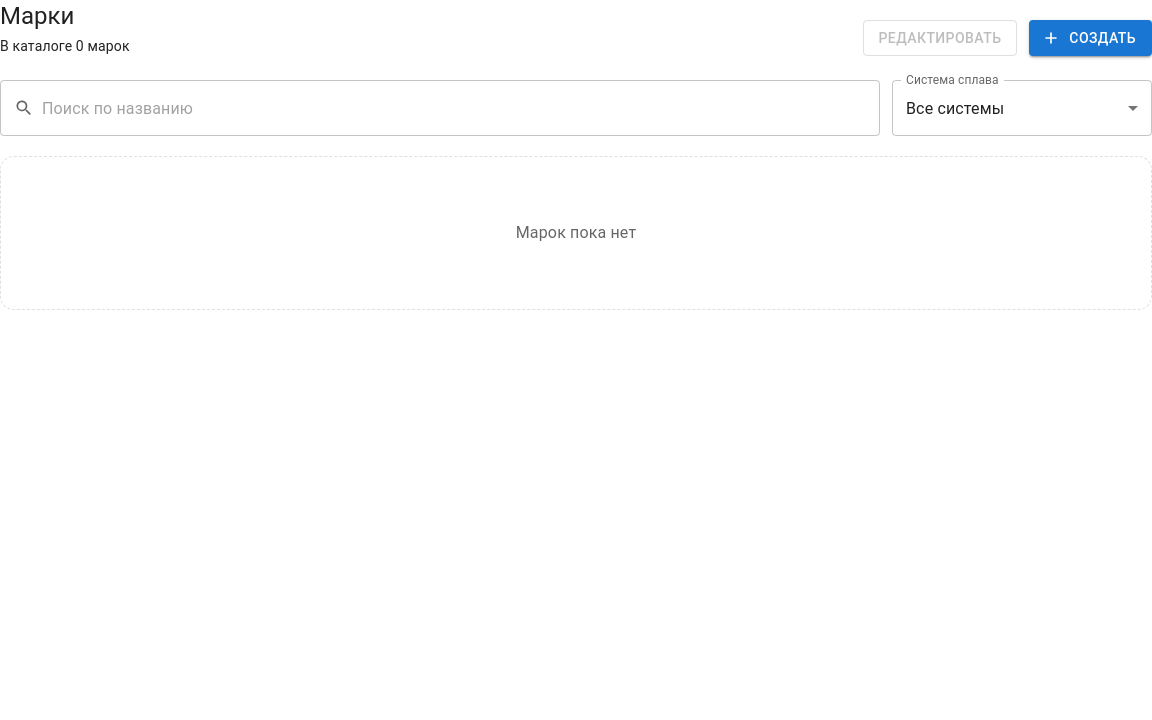
Scenario: CreateGradeDialog › shows the server error text and keeps the dialog open
This screenshot has width=1152, height=720.
Click the button "Создать" at (1091, 38), box [1029,20,1151,56]
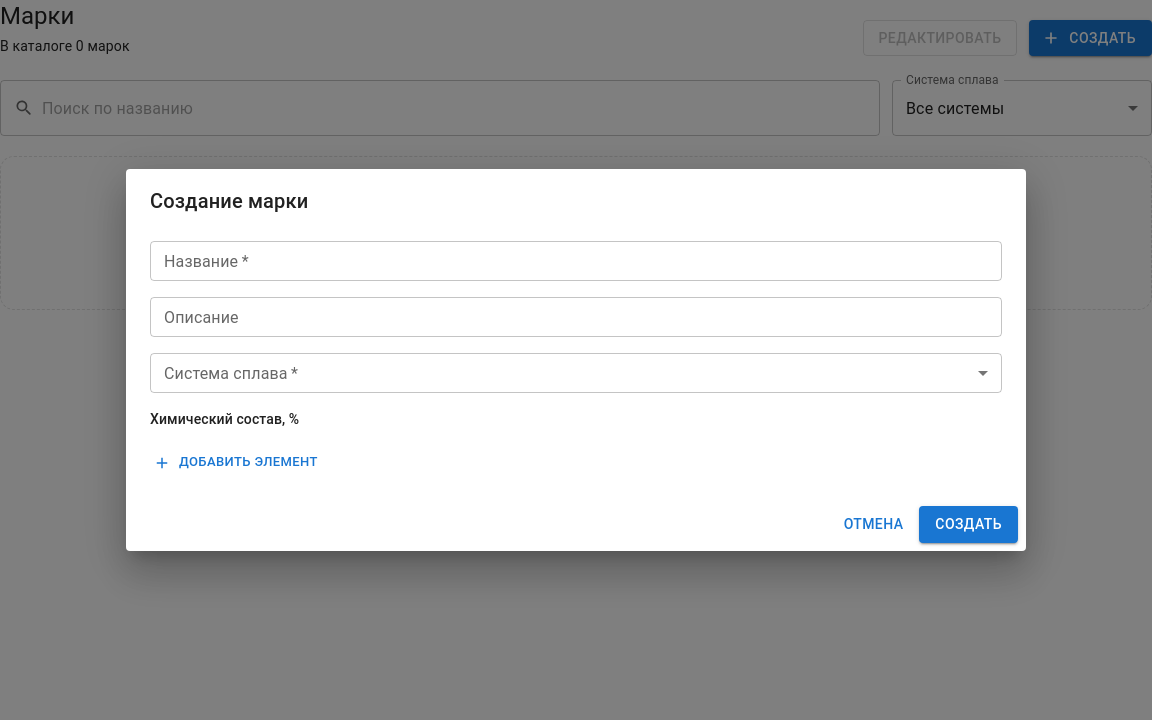
Type "Сталь 20" into the field labelled "Название *" at (576, 261), box [150,241,1002,281]
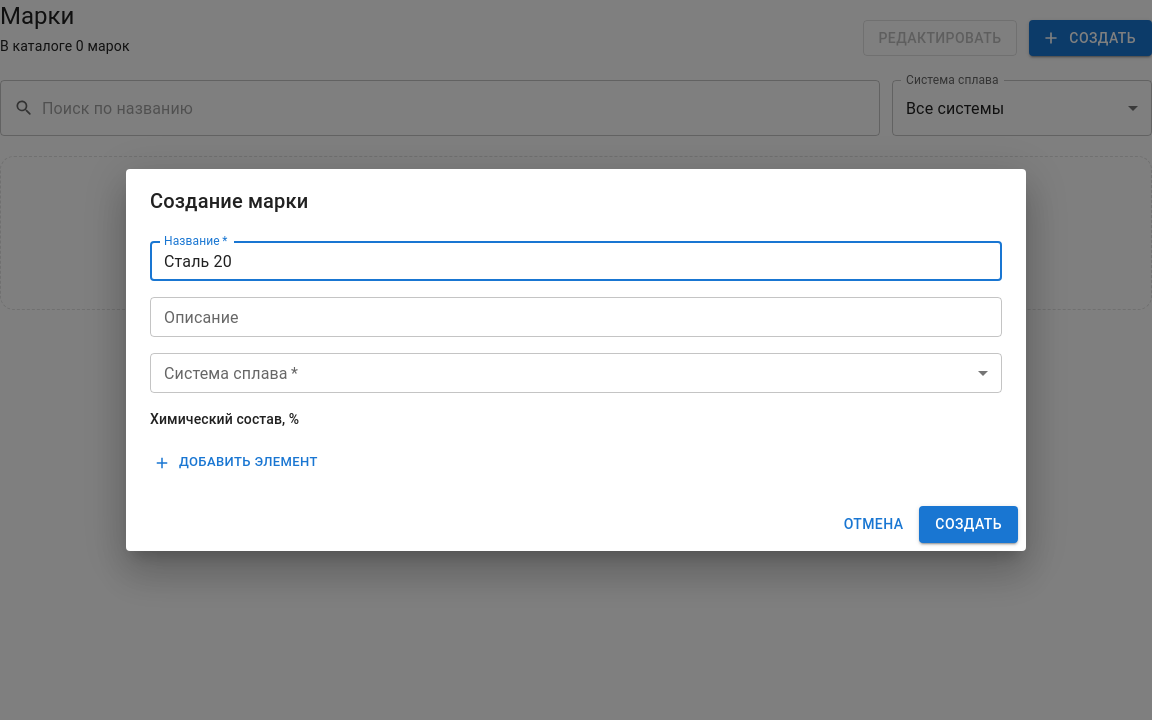
Click the dropdown named "Система сплава" at (576, 373), box [150,353,1002,393]
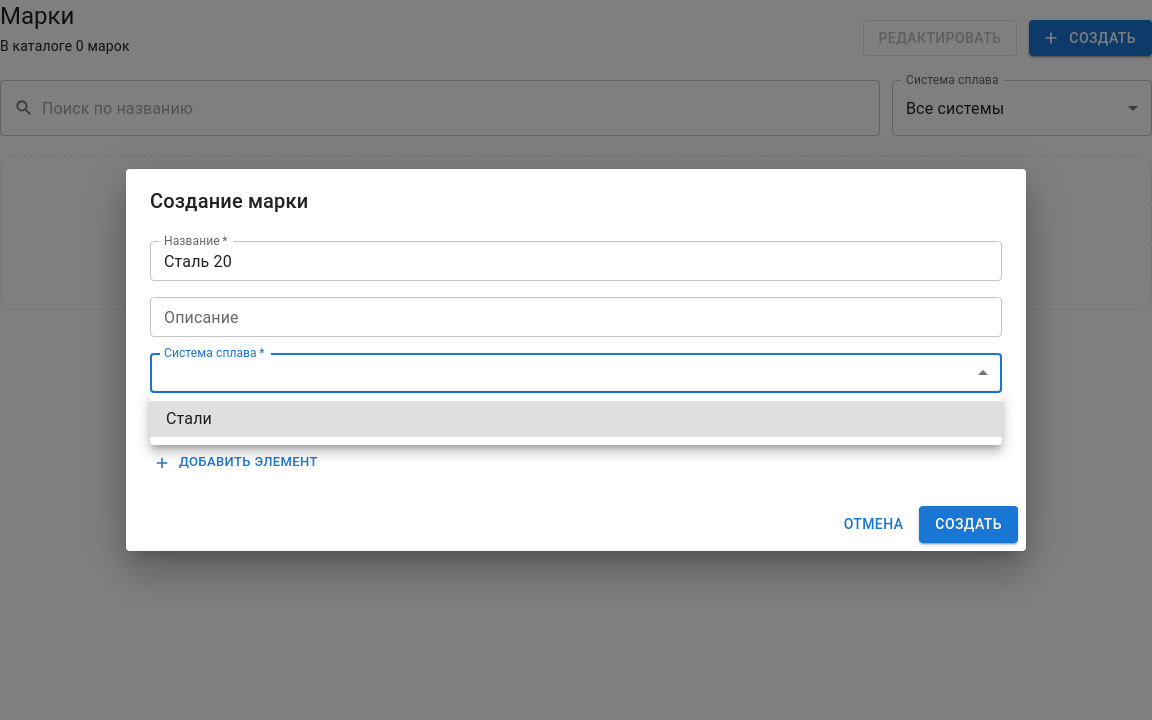
Click the option "Стали" at (189, 418), box [150,401,1002,437]
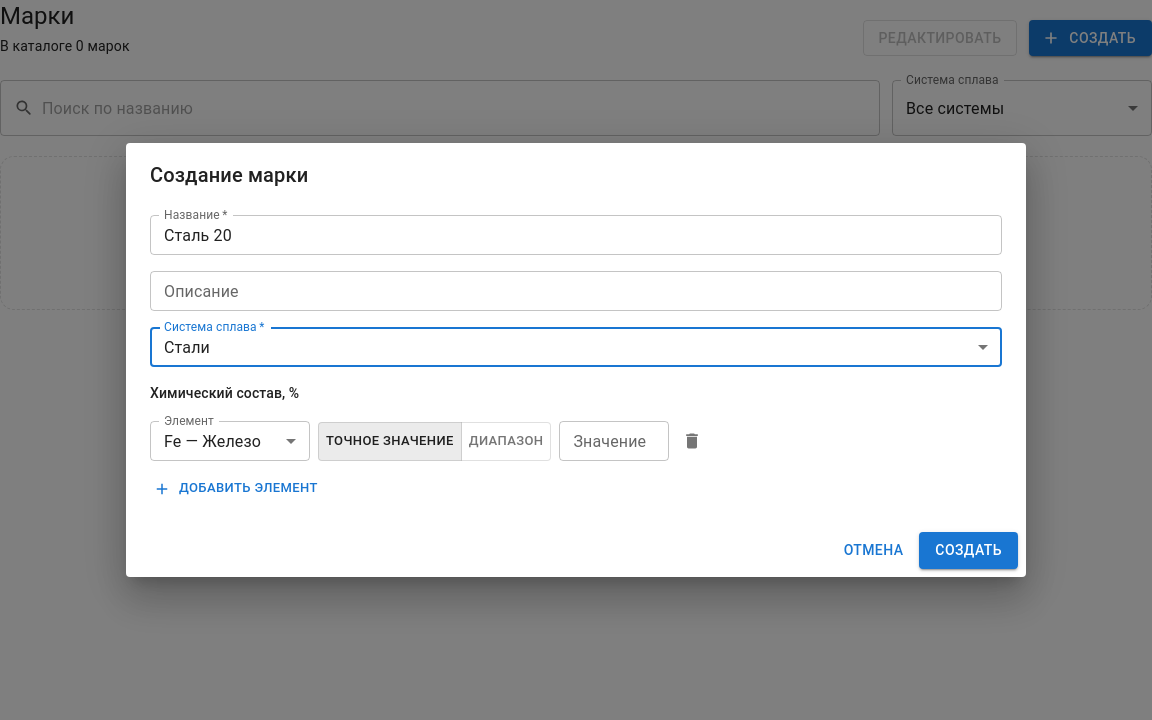
Type "100" into the field labelled "Значение" at (614, 441), box [560,421,670,461]
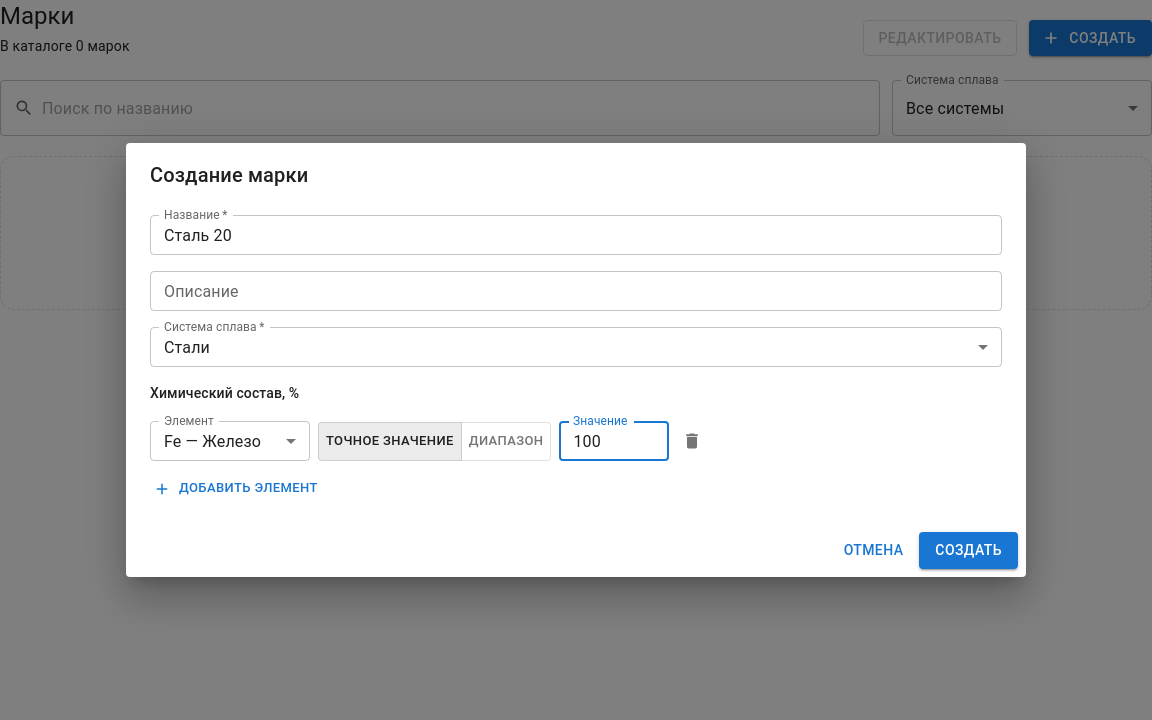
Click the button "Создать" at (969, 550), box [919,532,1018,569]
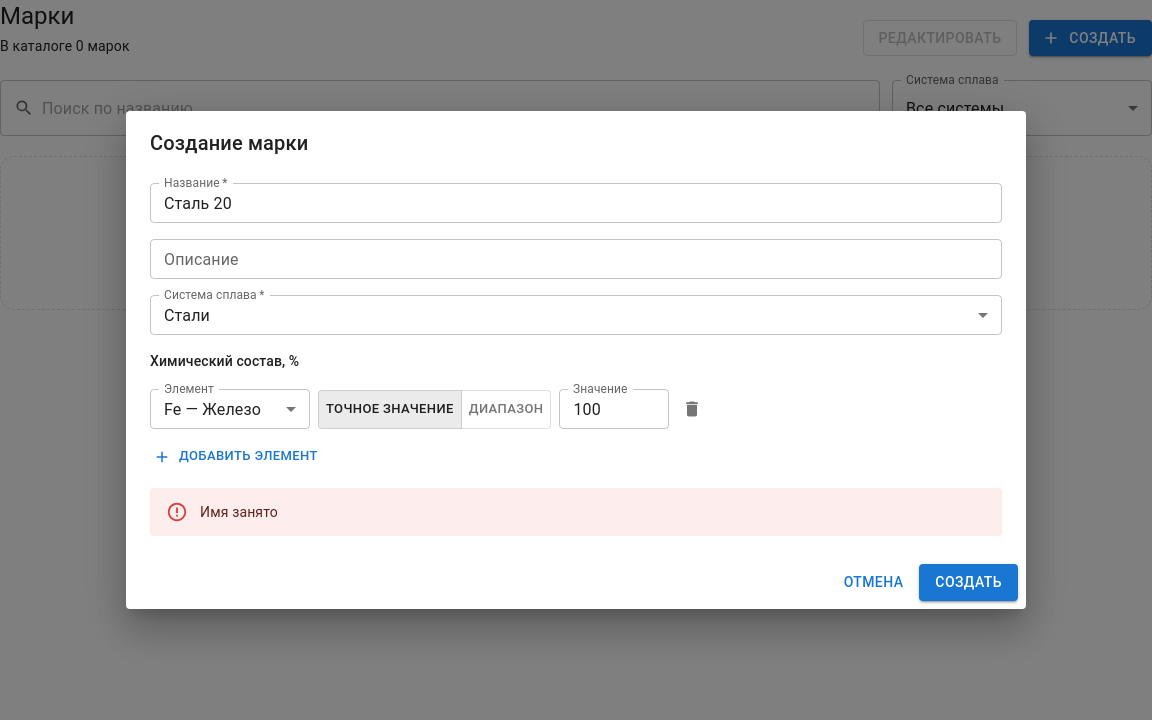
Check: the dialog is shown, box [126,111,1026,609]
Check: the button "Создать" is enabled, box [919,564,1018,601]
Check: the text "Имя занято" is shown, box [200,504,278,520]
